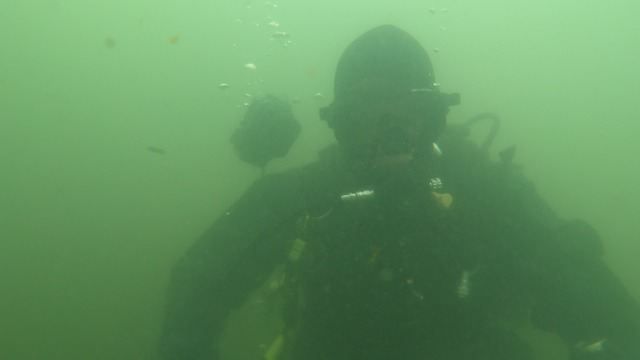Head: (307, 18, 485, 214)
